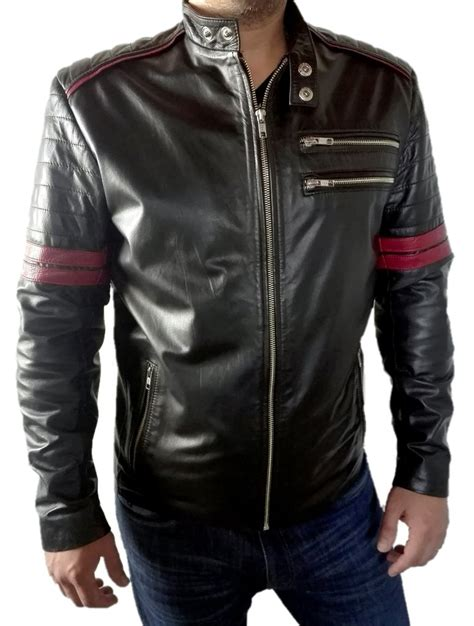cuero: (20, 1, 456, 554)
